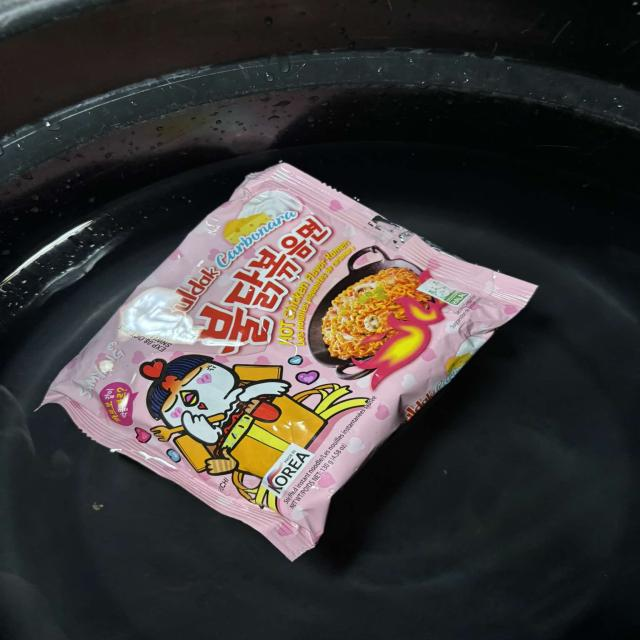Plastic Wrapper: (24, 146, 552, 571)
